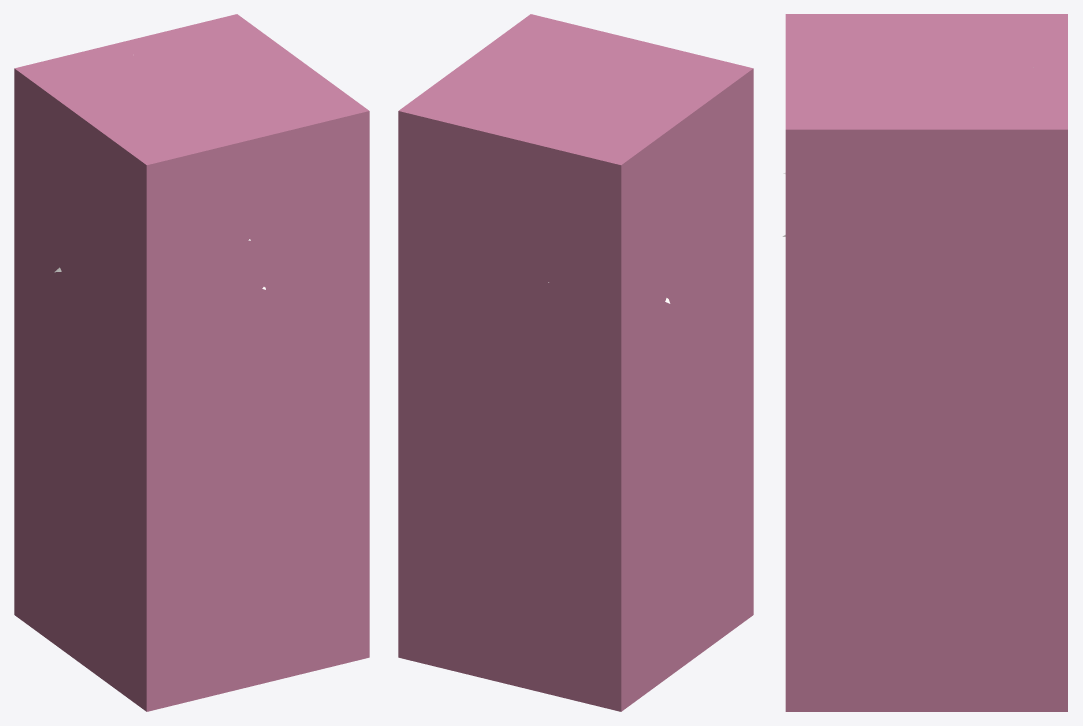
File: tree_palm_a.dae
The picture shows the model from 3 angles, left to right: view 1: azimuth 30°, elevation 25°; view 2: azimuth 150°, elevation 25°; view 3: azimuth 270°, elevation 25°; orthographic projection. The views are drawn at different scales.
Parts seen in each view (by area): view 1: Untitled; view 2: Untitled; view 3: Untitled.
Boxes of the visible parts, x1=… form: Untitled: x1=14, y1=14, x2=369, y2=711; Untitled: x1=398, y1=14, x2=753, y2=711; Untitled: x1=785, y1=14, x2=1067, y2=711.
Size of the model in its own units: 6.84 by 7.02 by 15.89.
